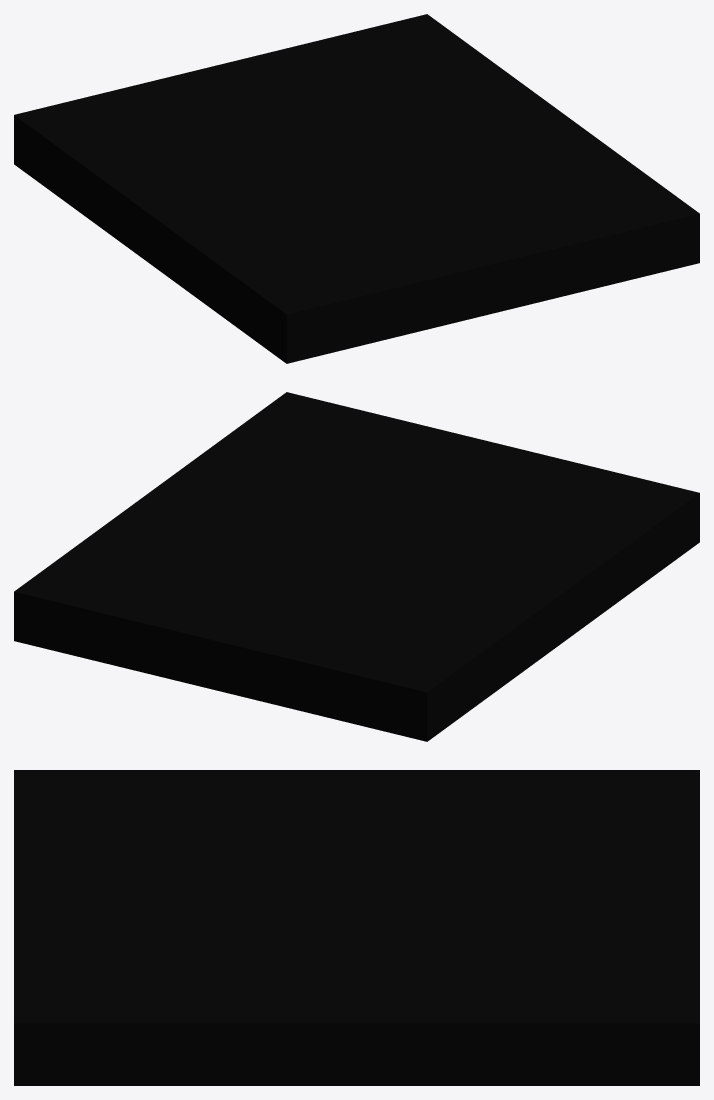
Rendered from test-road-multi.fbx.
3 views of the same model, one above another, from view 1: azimuth 30°, elevation 25°; view 2: azimuth 150°, elevation 25°; view 3: azimuth 270°, elevation 25° (orthographic). The views are drawn at different scales.
Visible parts, largest first — view 1: Куб; view 2: Куб; view 3: Куб.
Boxes of the visible parts, left/top/right/bottom form: Куб: left=14, top=14, right=699, bottom=363; Куб: left=14, top=392, right=699, bottom=741; Куб: left=14, top=770, right=699, bottom=1085.
Size of the model in its own units: 175 by 20 by 200.
